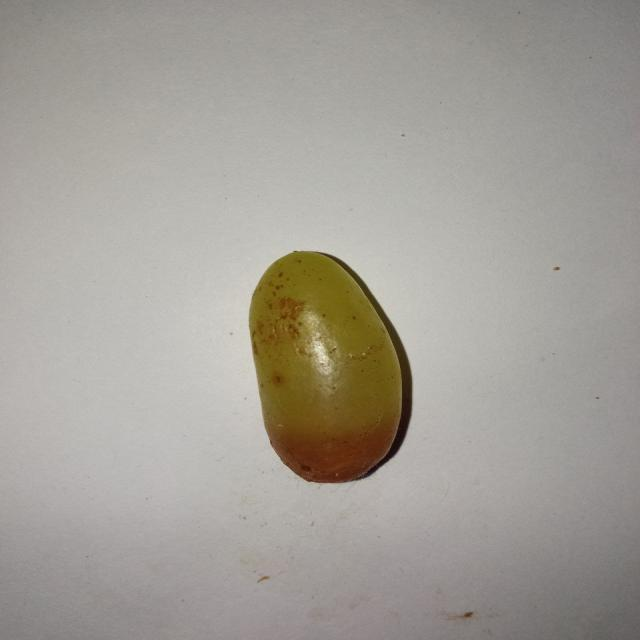rotten_grape: (252, 252, 400, 480)
